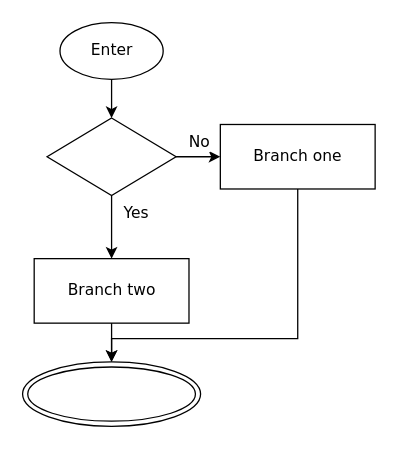
Some shapes in this 399 by 449 pixel diagram are drawn without their labels. Here are the shapes that lost their labels. From the top down, the box of each, then its label:
(46, 117, 176, 195): Fork?
(21, 361, 201, 426): Merge point
